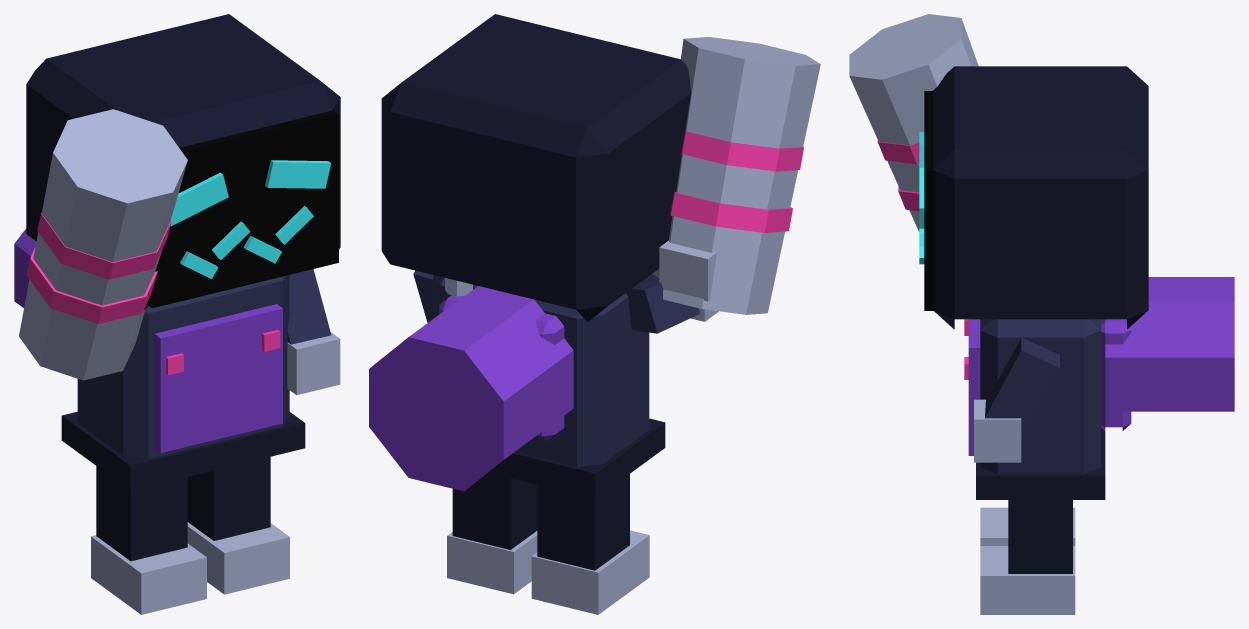
Rendered from mortar_r8.glb.
3 views of the same model, side by side, from view 1: azimuth 30°, elevation 25°; view 2: azimuth 150°, elevation 25°; view 3: azimuth 270°, elevation 25° (orthographic). The views are drawn at different scales.
Parts seen in each view (by area): view 1: mortar_r8_mesh; view 2: mortar_r8_mesh; view 3: mortar_r8_mesh.
Part boxes in pixels (x1=…): mortar_r8_mesh: x1=14, y1=14, x2=340, y2=614; mortar_r8_mesh: x1=369, y1=14, x2=820, y2=614; mortar_r8_mesh: x1=849, y1=14, x2=1234, y2=614.
Bounding box in the file's own units: 1.06 × 1.7 × 1.21.
Materials: 1 (1 with a texture image).
